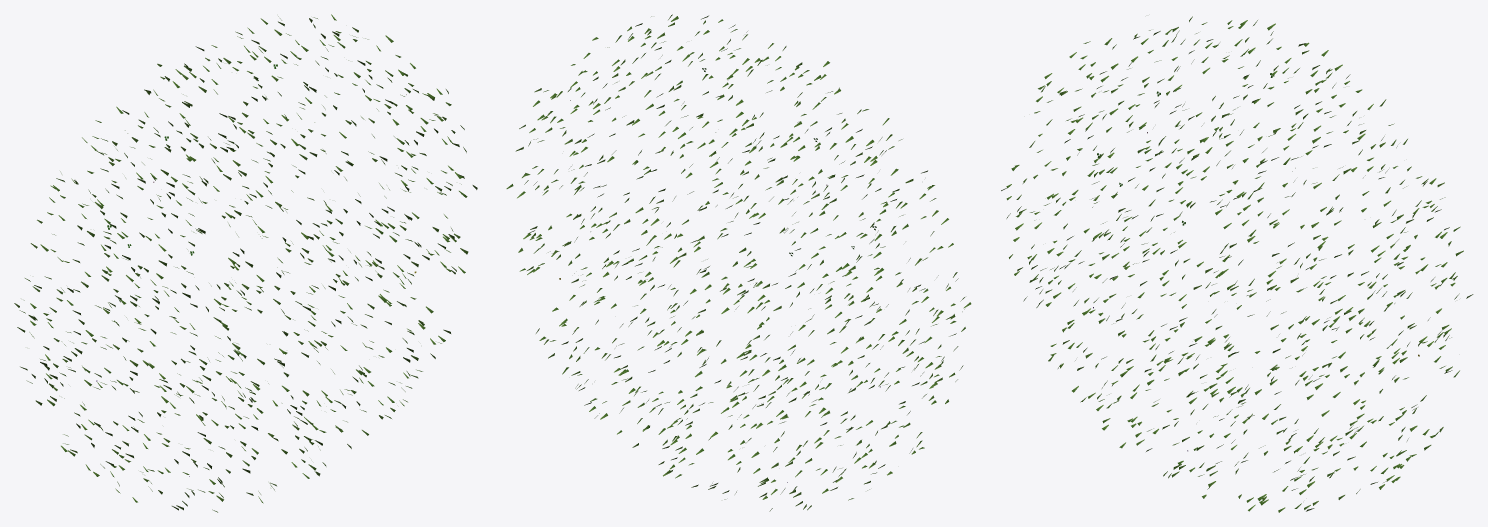
Rendered from Grass_Tile_FormalGarden.glb.
The picture shows the model from 3 angles, left to right: view 1: azimuth 30°, elevation 25°; view 2: azimuth 150°, elevation 25°; view 3: azimuth 330°, elevation 25°; orthographic projection.
Parts seen in each view (by area): view 1: Grass_Tile_FormalGarden; view 2: Grass_Tile_FormalGarden; view 3: Grass_Tile_FormalGarden.
Part boxes in pixels (x1,y1,x2,y2): Grass_Tile_FormalGarden: [14, 14, 477, 512]; Grass_Tile_FormalGarden: [506, 14, 971, 511]; Grass_Tile_FormalGarden: [1001, 16, 1473, 512].
Bounding box in the file's own units: 1.89 × 1.89 × 0.0524.
